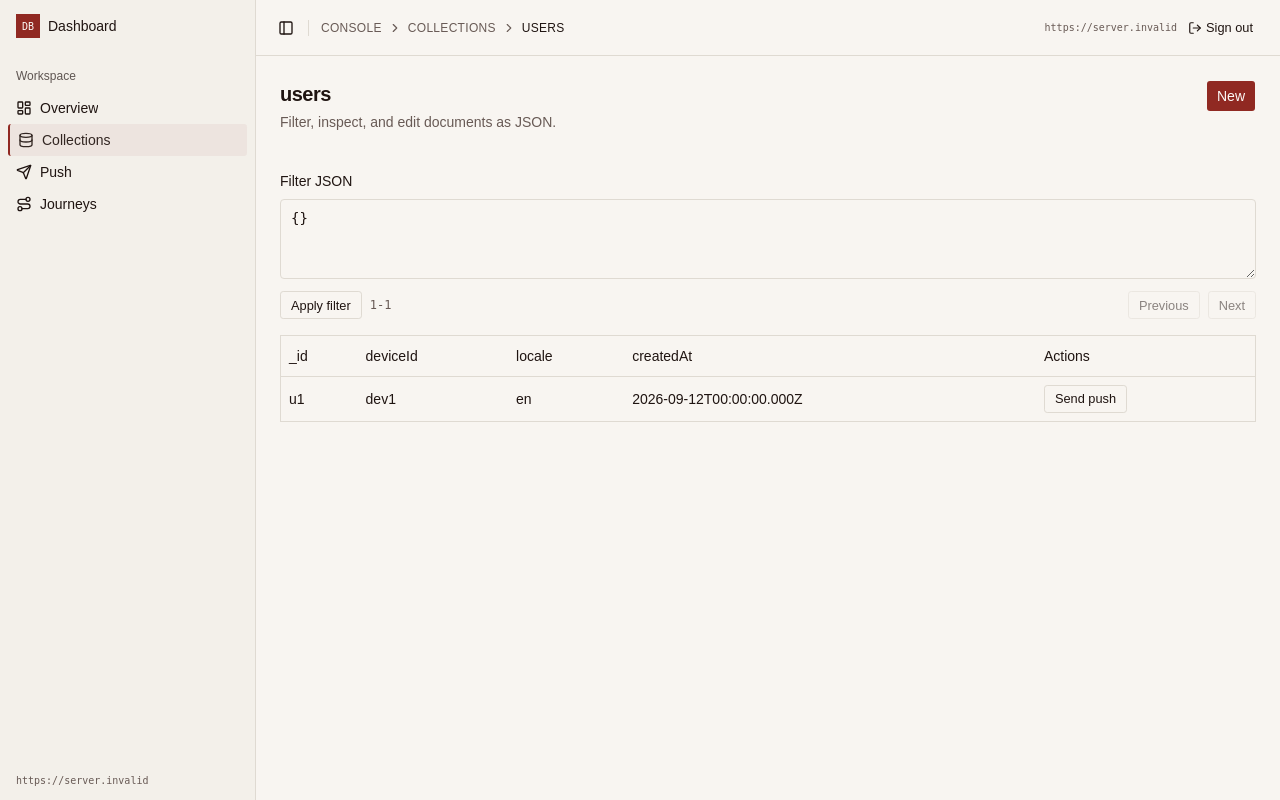
operator dashboard › saves a PATCH body without _id
Click the text "dev1" at (381, 399), box [366,391,396,407]
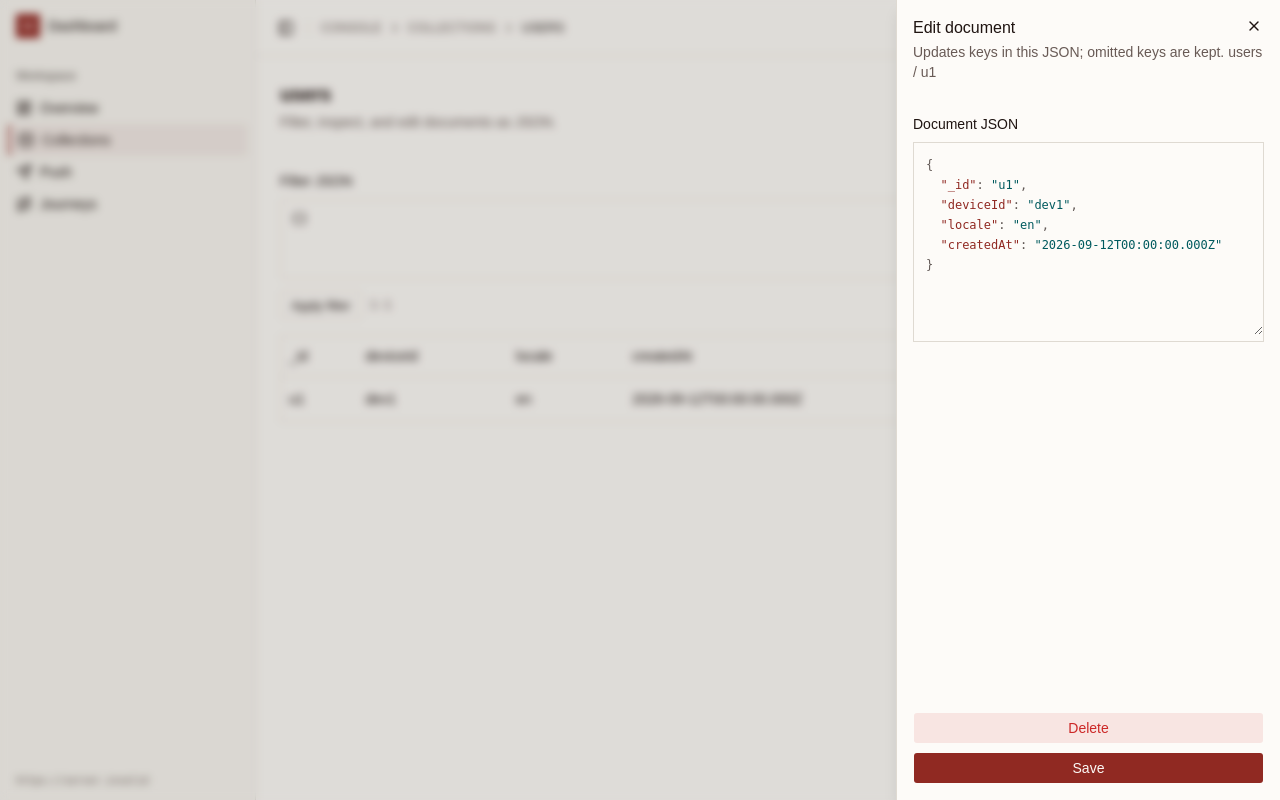
Now the text "Updates keys in this JSON; omitted keys are kept. users / u1" is shown, box [913,42,1264,82]
Click the button "Save" at (1088, 768), box [913,752,1264,784]
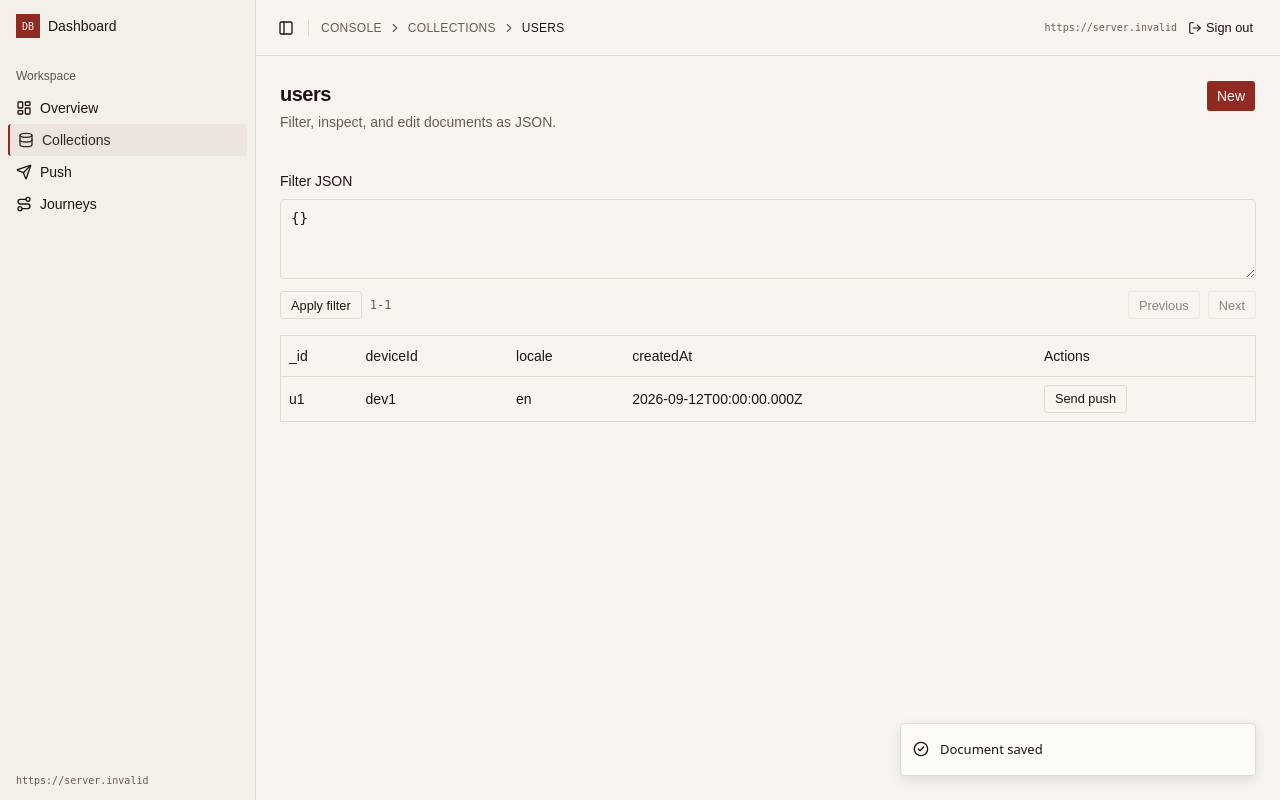
Expected: the text "dev1" is shown, [366,391,396,407]
Now the text "Document saved" is shown, box [940,740,1043,759]
